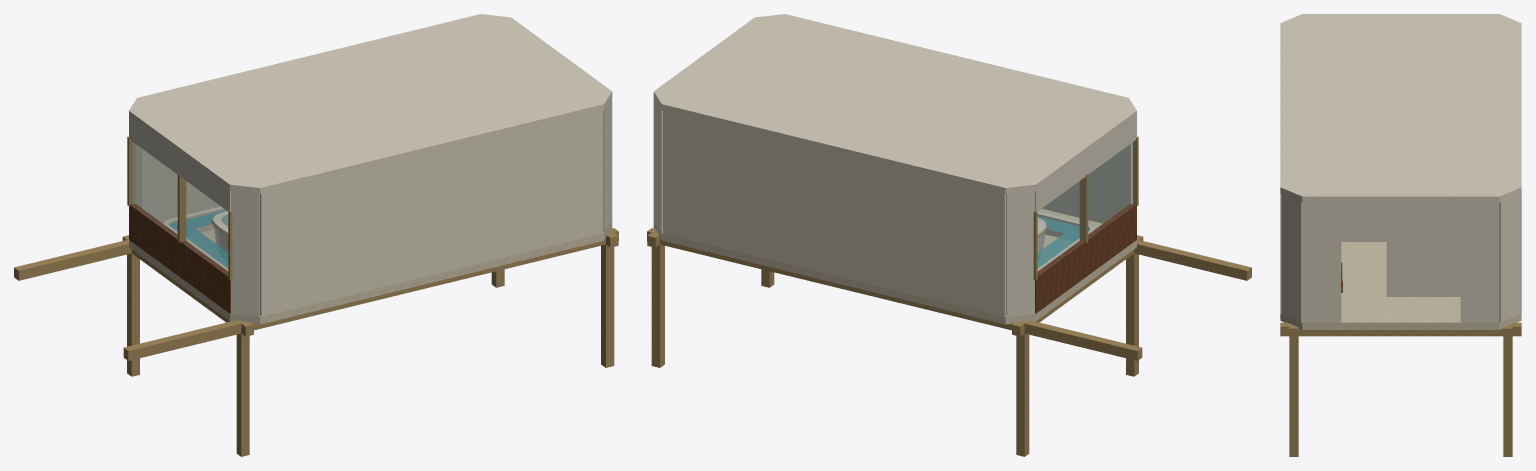
Rendered from D04_STARBOARD_FORWARD_HOME_895_r001.glb.
3 views of the same model, side by side, from view 1: azimuth 30°, elevation 25°; view 2: azimuth 150°, elevation 25°; view 3: azimuth 270°, elevation 25° (orthographic). The views are drawn at different scales.
Parts seen in each view (by area): view 1: D04SH895_Roof, D04SH895_Shell_3, D04SH895_GardenGlass, D04SH895_GardenDado, D04SH895_Floor, D04SH895_FloorCross_1, D04SH895_Shell_4, D04SH895_Shell_7, D04SH895_GardenHead, D04SH895_FloorCross_0, D04SH895_Pier_6, D04SH895_Pier_8 (+6 smaller); view 2: D04SH895_Roof, D04SH895_Shell_7, D04SH895_GardenGlass, D04SH895_Floor, D04SH895_GardenDado, D04SH895_FloorCross_0, D04SH895_Shell_6, D04SH895_Shell_3, D04SH895_GardenHead, D04SH895_FloorCross_1, D04SH895_Pier_5, D04SH895_Pier_7 (+6 smaller); view 3: D04SH895_Roof, D04SH895_Floor, D04SH895_EntryWall_0, D04SH895_EntryWall_1, D04SH895_EntryHeader, D04SH895_BathDogleg, D04SH895_Shell_0, D04SH895_Shell_2, D04SH895_Long_-41.650000000000006, D04SH895_Pier_6, D04SH895_Pier_5.
Part boxes in pixels (x1,y1,x2,y2): D04SH895_Roof: (129, 14, 612, 194); D04SH895_Shell_3: (260, 110, 602, 316); D04SH895_GardenGlass: (131, 144, 227, 275); D04SH895_GardenDado: (129, 204, 230, 313); D04SH895_Floor: (129, 220, 612, 324); D04SH895_FloorCross_1: (123, 228, 618, 360); D04SH895_Shell_4: (231, 191, 259, 316); D04SH895_Shell_7: (142, 149, 220, 223); D04SH895_GardenHead: (129, 117, 230, 211); D04SH895_FloorCross_0: (14, 239, 131, 280); D04SH895_Pier_6: (601, 230, 614, 367); D04SH895_Pier_8: (236, 322, 249, 456); D04SH895_Roof: (653, 14, 1136, 194); D04SH895_Shell_7: (663, 110, 1005, 316); D04SH895_GardenGlass: (1038, 144, 1130, 275); D04SH895_Floor: (653, 209, 1136, 324); D04SH895_GardenDado: (1035, 204, 1136, 313); D04SH895_FloorCross_0: (647, 228, 1142, 360); D04SH895_Shell_6: (1006, 191, 1034, 316); D04SH895_Shell_3: (1042, 149, 1123, 223); D04SH895_GardenHead: (1035, 117, 1136, 211); D04SH895_FloorCross_1: (1134, 239, 1251, 280); D04SH895_Pier_5: (651, 230, 664, 367); D04SH895_Pier_7: (1016, 322, 1029, 456); D04SH895_Roof: (1280, 14, 1521, 202); D04SH895_Floor: (1280, 242, 1521, 329); D04SH895_EntryWall_0: (1460, 202, 1499, 322); D04SH895_EntryWall_1: (1302, 202, 1341, 322); D04SH895_EntryHeader: (1341, 202, 1460, 241); D04SH895_BathDogleg: (1386, 242, 1460, 296); D04SH895_Shell_0: (1499, 194, 1520, 322); D04SH895_Shell_2: (1281, 194, 1302, 322); D04SH895_Long_-41.650000000000006: (1280, 322, 1521, 336); D04SH895_Pier_6: (1289, 325, 1298, 456); D04SH895_Pier_5: (1503, 325, 1512, 456).
Bounding box in the file's own units: 16.55 × 8.66 × 7.2.
40 materials, 21 textured.
